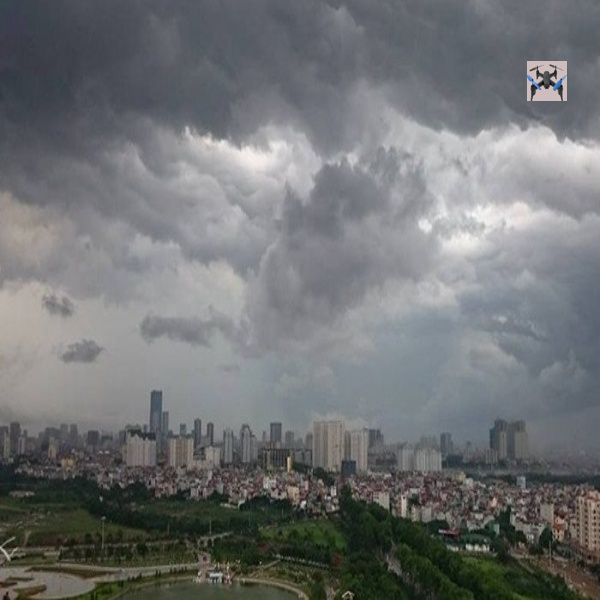drone: (526, 58, 570, 103)
